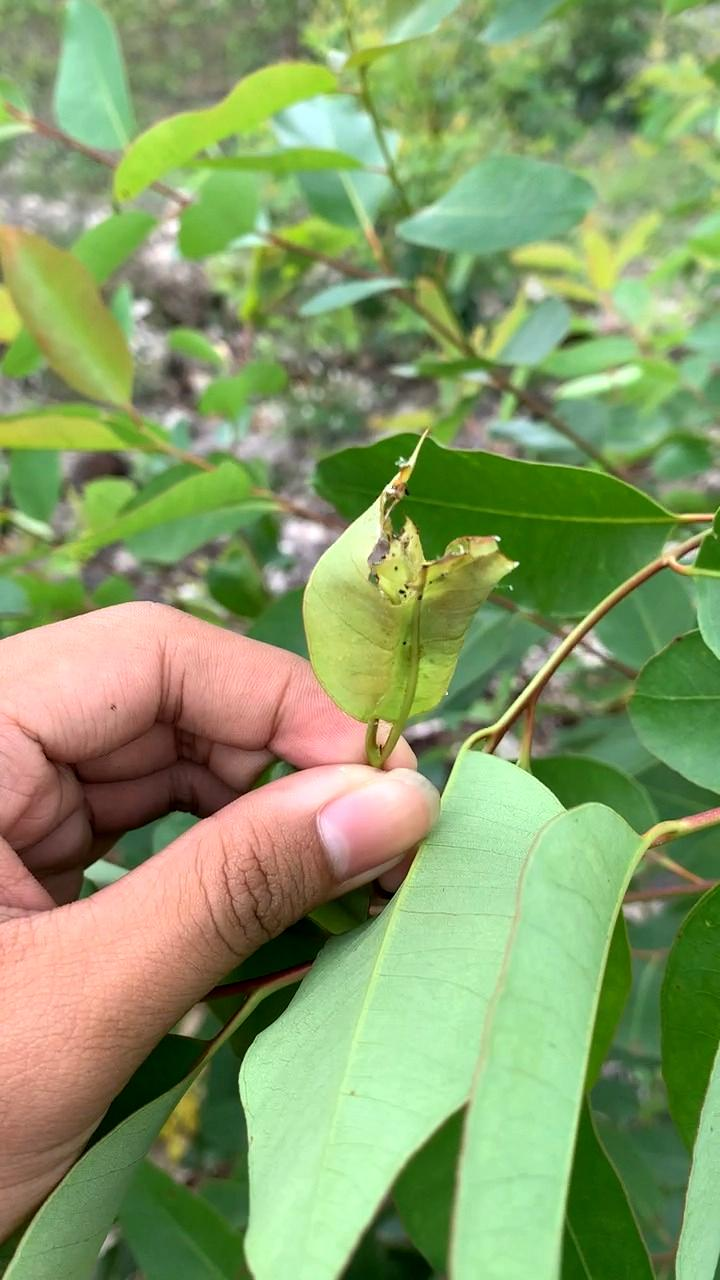Leaf Roller - Leaf: (306, 468, 511, 705)
